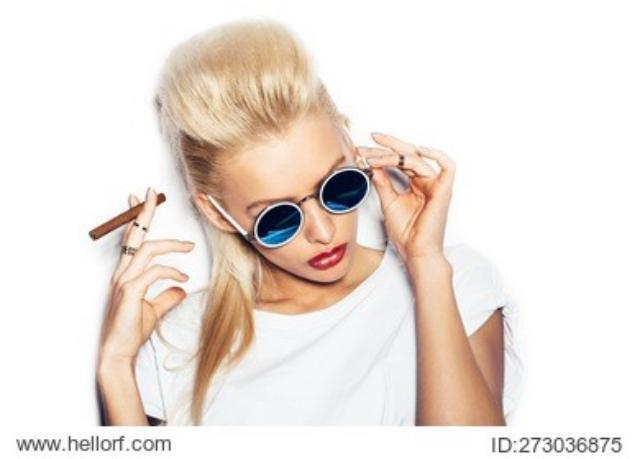Smoking: (72, 197, 170, 243)
